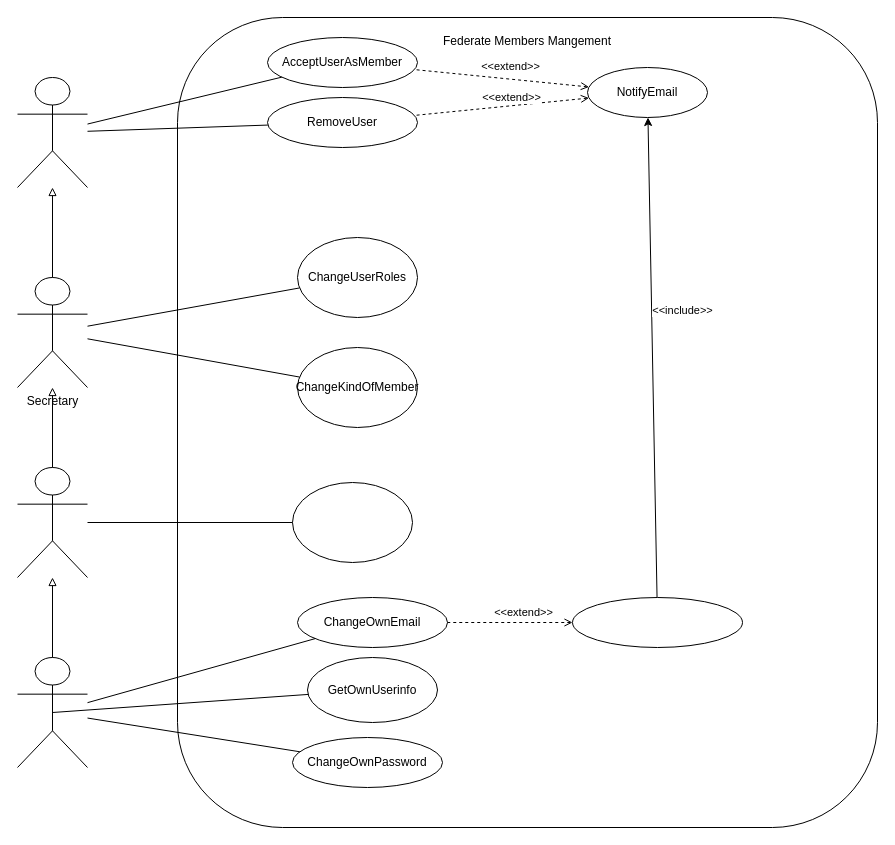
Some shapes in this 895 by 845 pixel diagram are drawn without their labels. Each missing label, with the centre of its shape:
"GetUserInfo" goes at point 352,522.
"Member" goes at point 52,712.
"NotifyOldAndNewEmail" goes at point 657,622.
"President" goes at point 52,132.
"Treasurer" goes at point 52,522.
